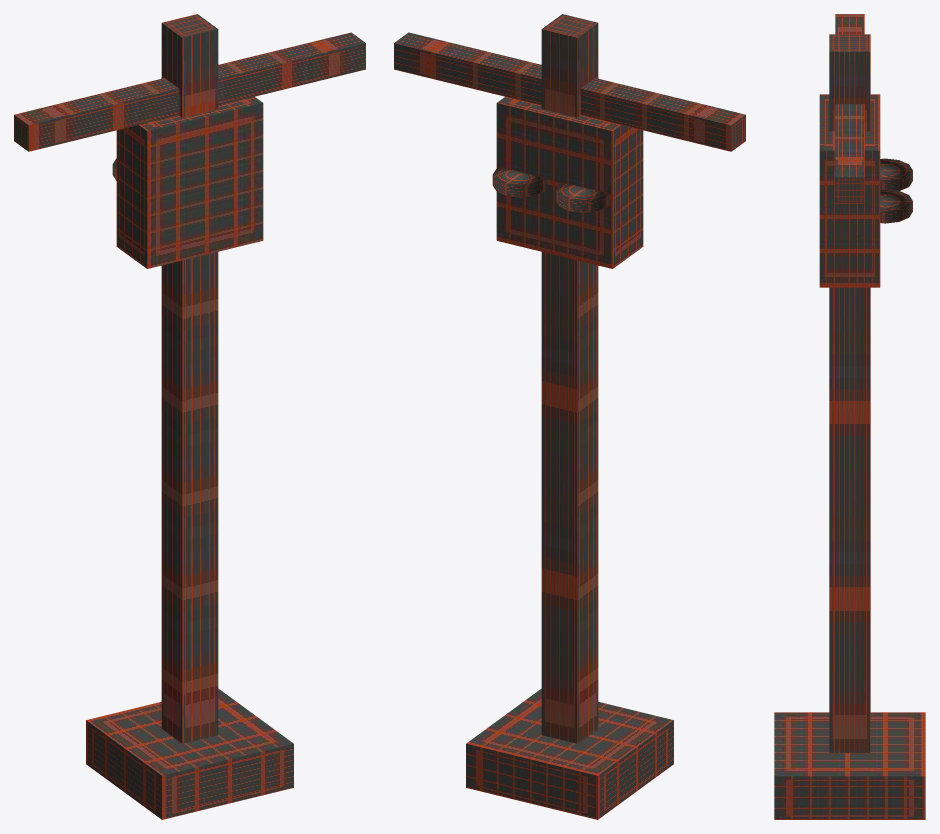
File: rail-signal-v1.glb
3 renders of one model, left to right at view 1: azimuth 30°, elevation 25°; view 2: azimuth 150°, elevation 25°; view 3: azimuth 270°, elevation 25°, orthographic.
Visible parts, largest first — view 1: rail-signal-mesh; view 2: rail-signal-mesh; view 3: rail-signal-mesh.
Boxes of the visible parts, x1,y1,x2,y2 form: rail-signal-mesh: (14, 14, 365, 819); rail-signal-mesh: (394, 14, 745, 819); rail-signal-mesh: (774, 14, 925, 819).
Size of the model in its own units: 3.2 by 6.8 by 1.25.
Materials: 1 (1 with a texture image).
